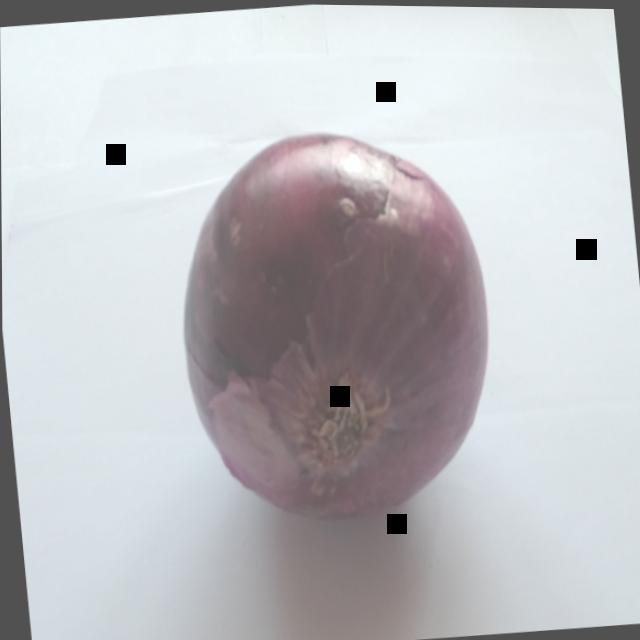Onion: (140, 90, 521, 560)
